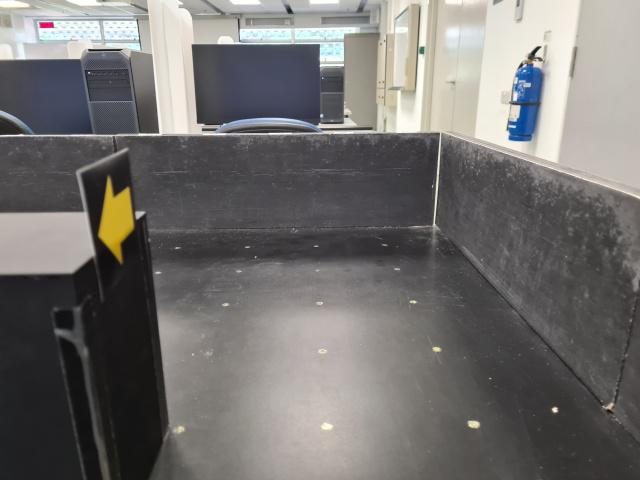right: (76, 148, 142, 303)
